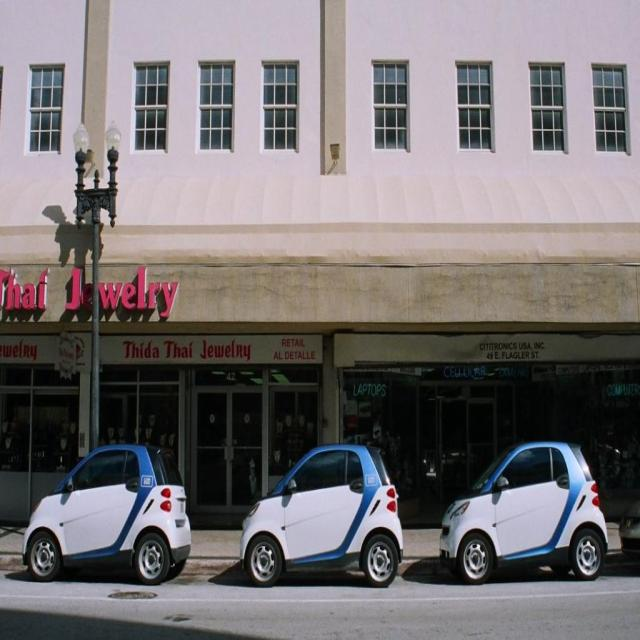car: (436, 435, 603, 583), (238, 443, 400, 586), (23, 445, 192, 581)
